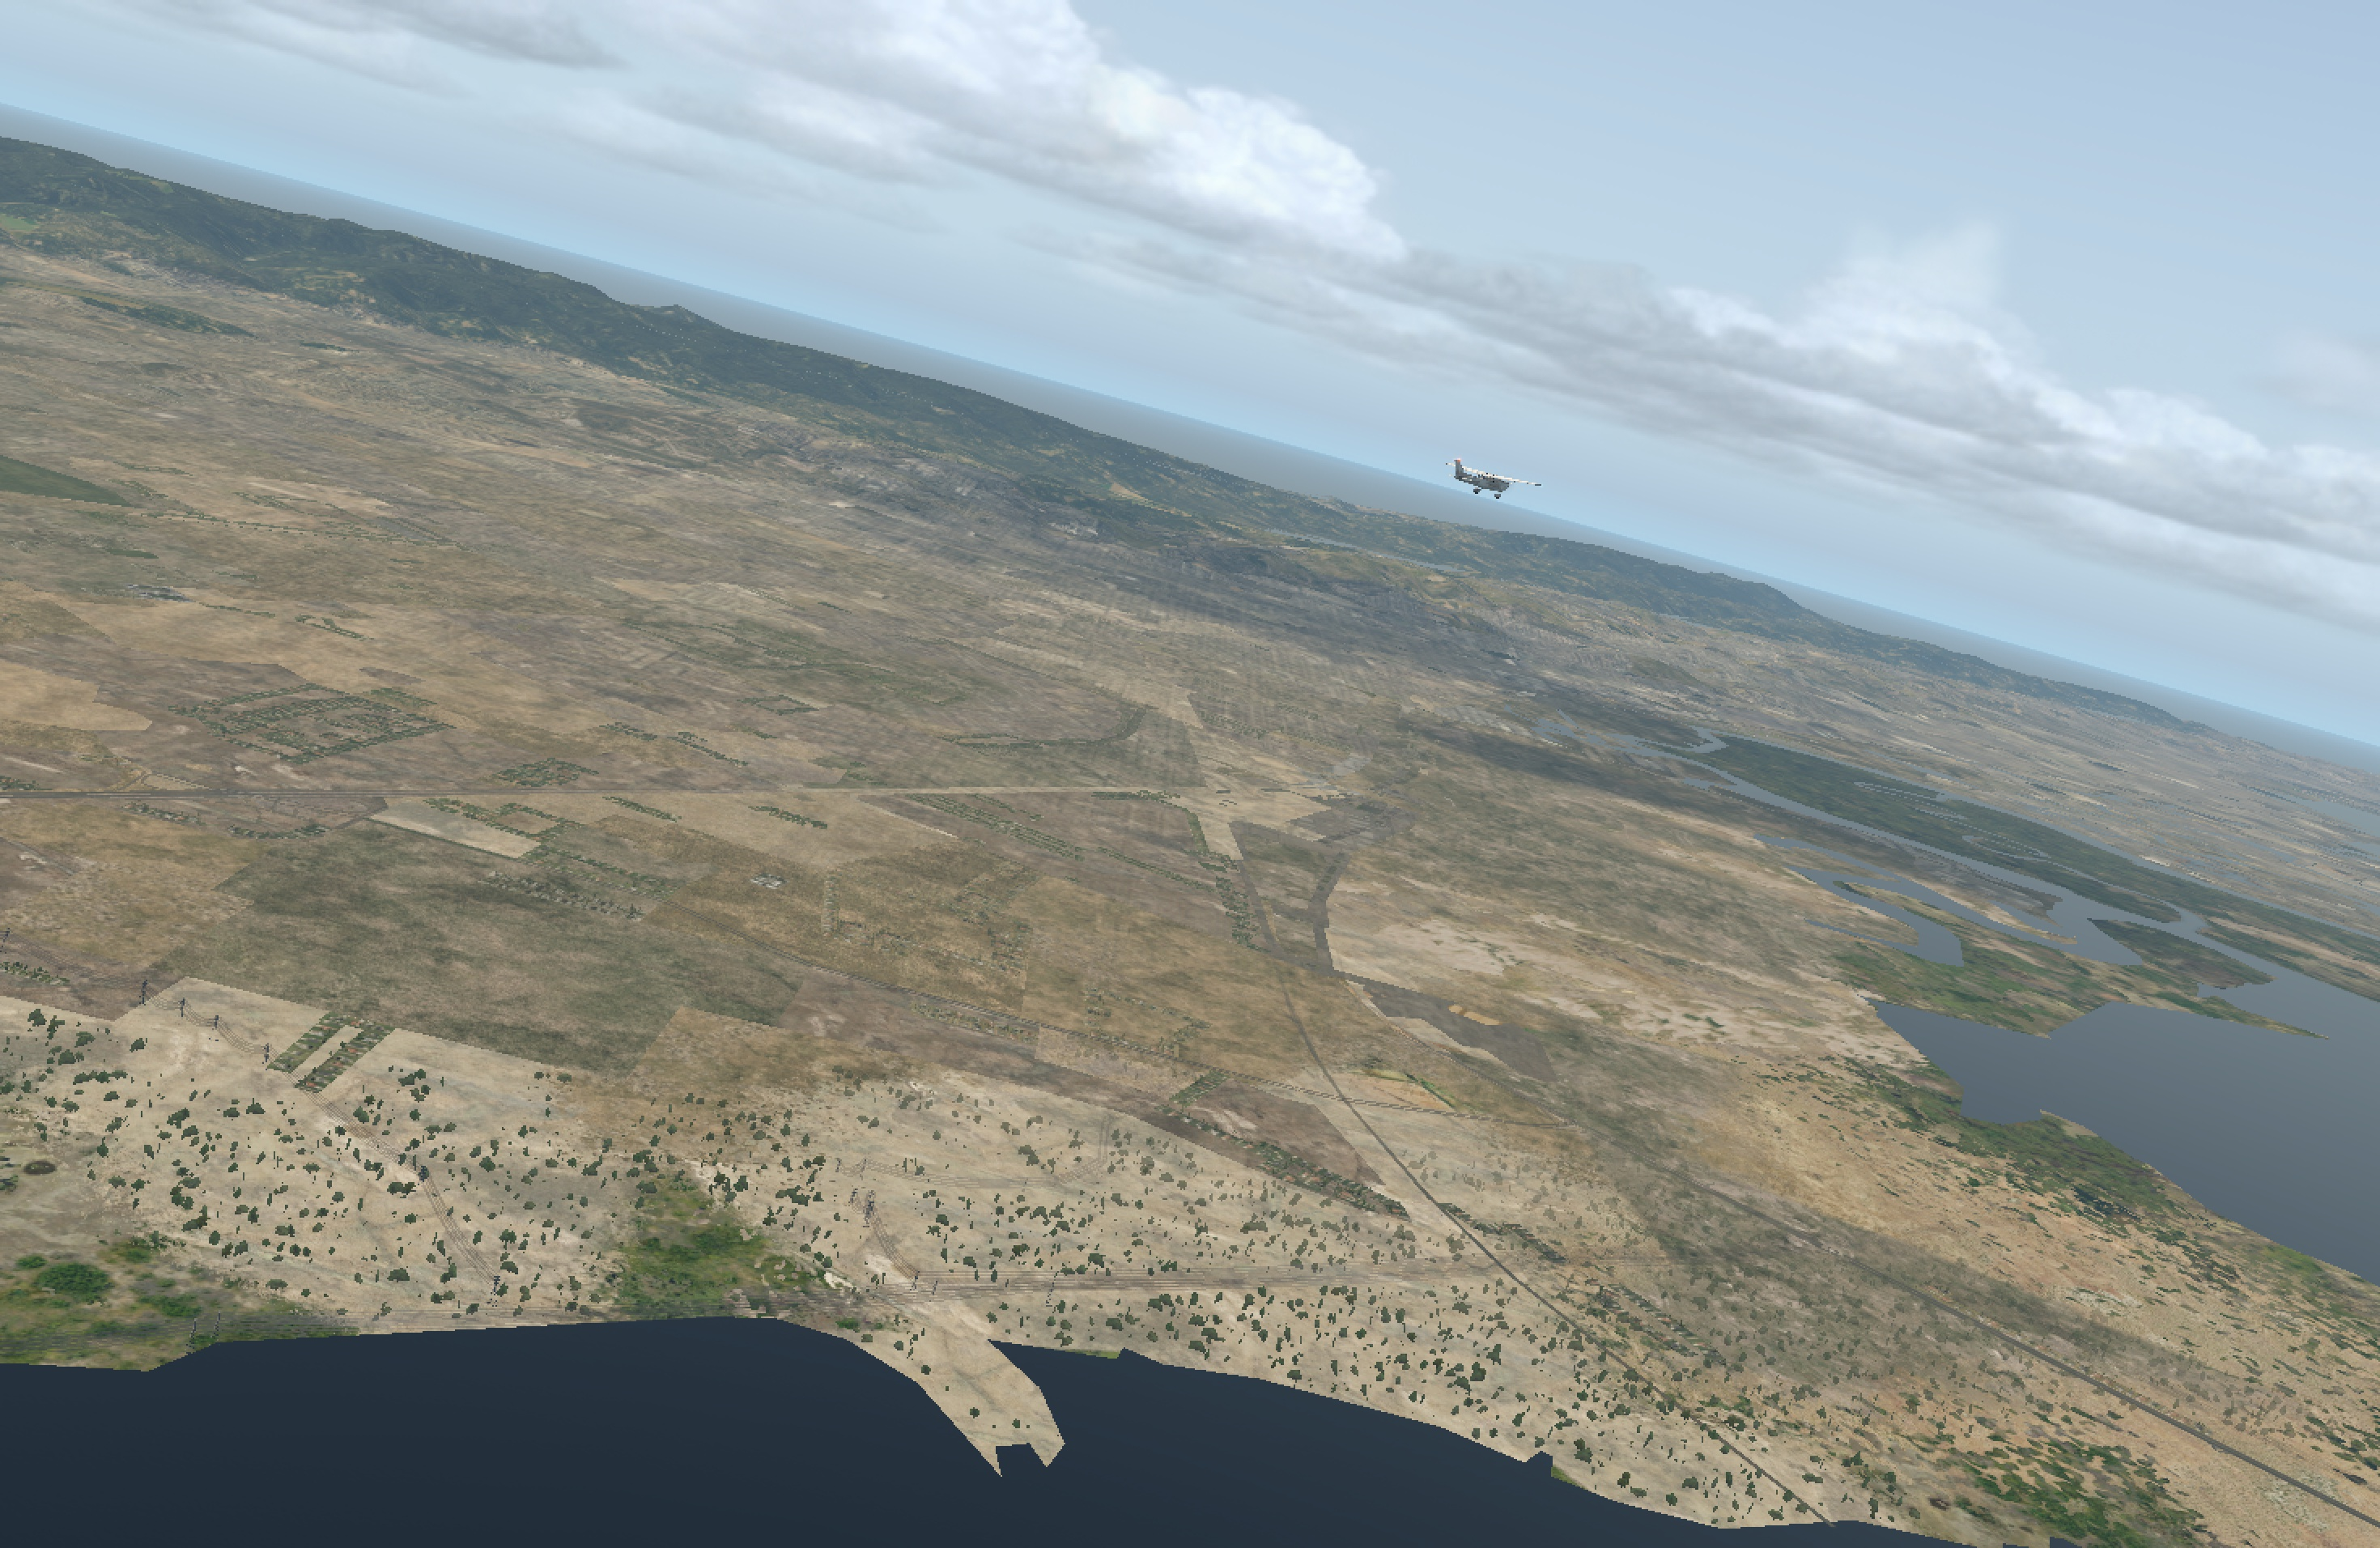aircraft: (1450, 465, 1533, 498)
